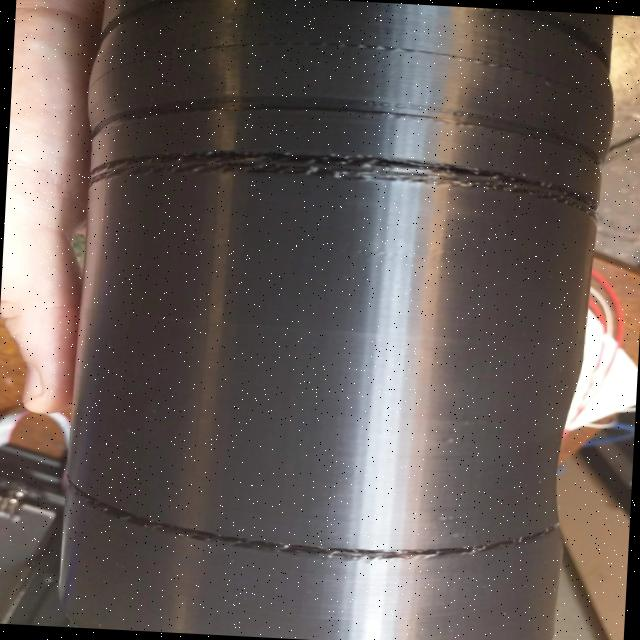cracks: (70, 81, 611, 228), (64, 454, 588, 592)
